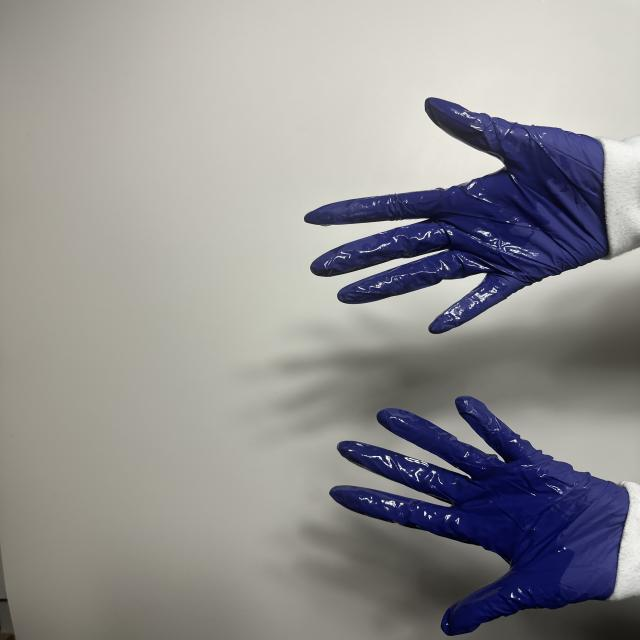gloves_contaminated: (330, 397, 629, 636), (305, 98, 608, 333)
